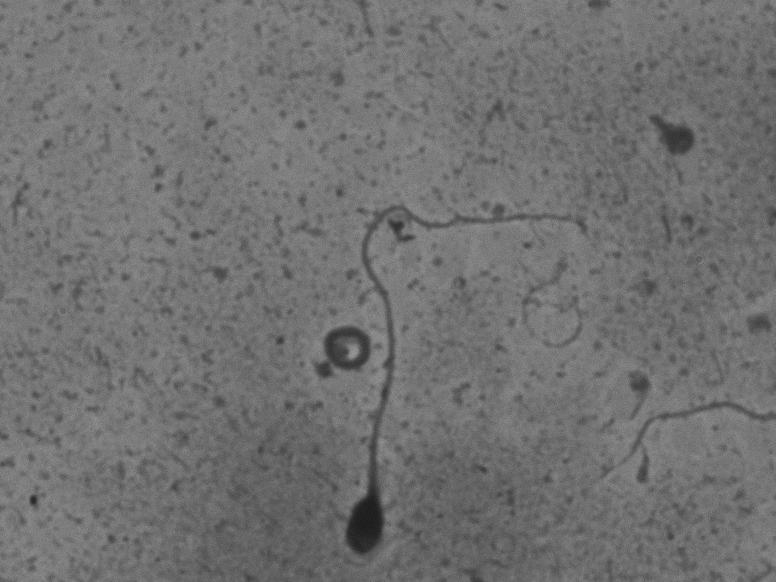Abnormal: (336, 190, 595, 564)
